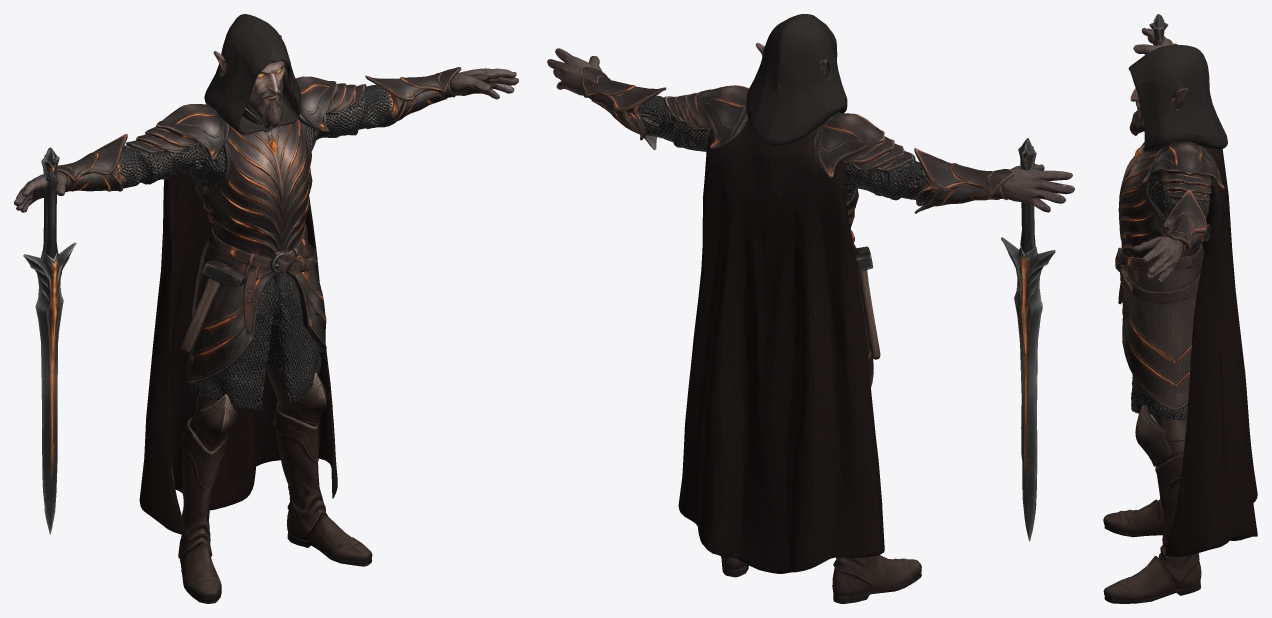
Rendered from KILN-WARDEN-v2-tpose.glb.
3 views of the same model, side by side, from view 1: azimuth 30°, elevation 25°; view 2: azimuth 150°, elevation 25°; view 3: azimuth 270°, elevation 25° (orthographic). The views are drawn at different scales.
Visible parts, largest first — view 1: mesh_node; view 2: mesh_node; view 3: mesh_node.
Part boxes in pixels (x1,y1,x2,y2): mesh_node: (14, 14, 518, 603); mesh_node: (547, 14, 1074, 603); mesh_node: (1103, 14, 1257, 603).
Bounding box in the file's own units: 1.87 × 1.9 × 0.5144.
1 material, 1 textured.
